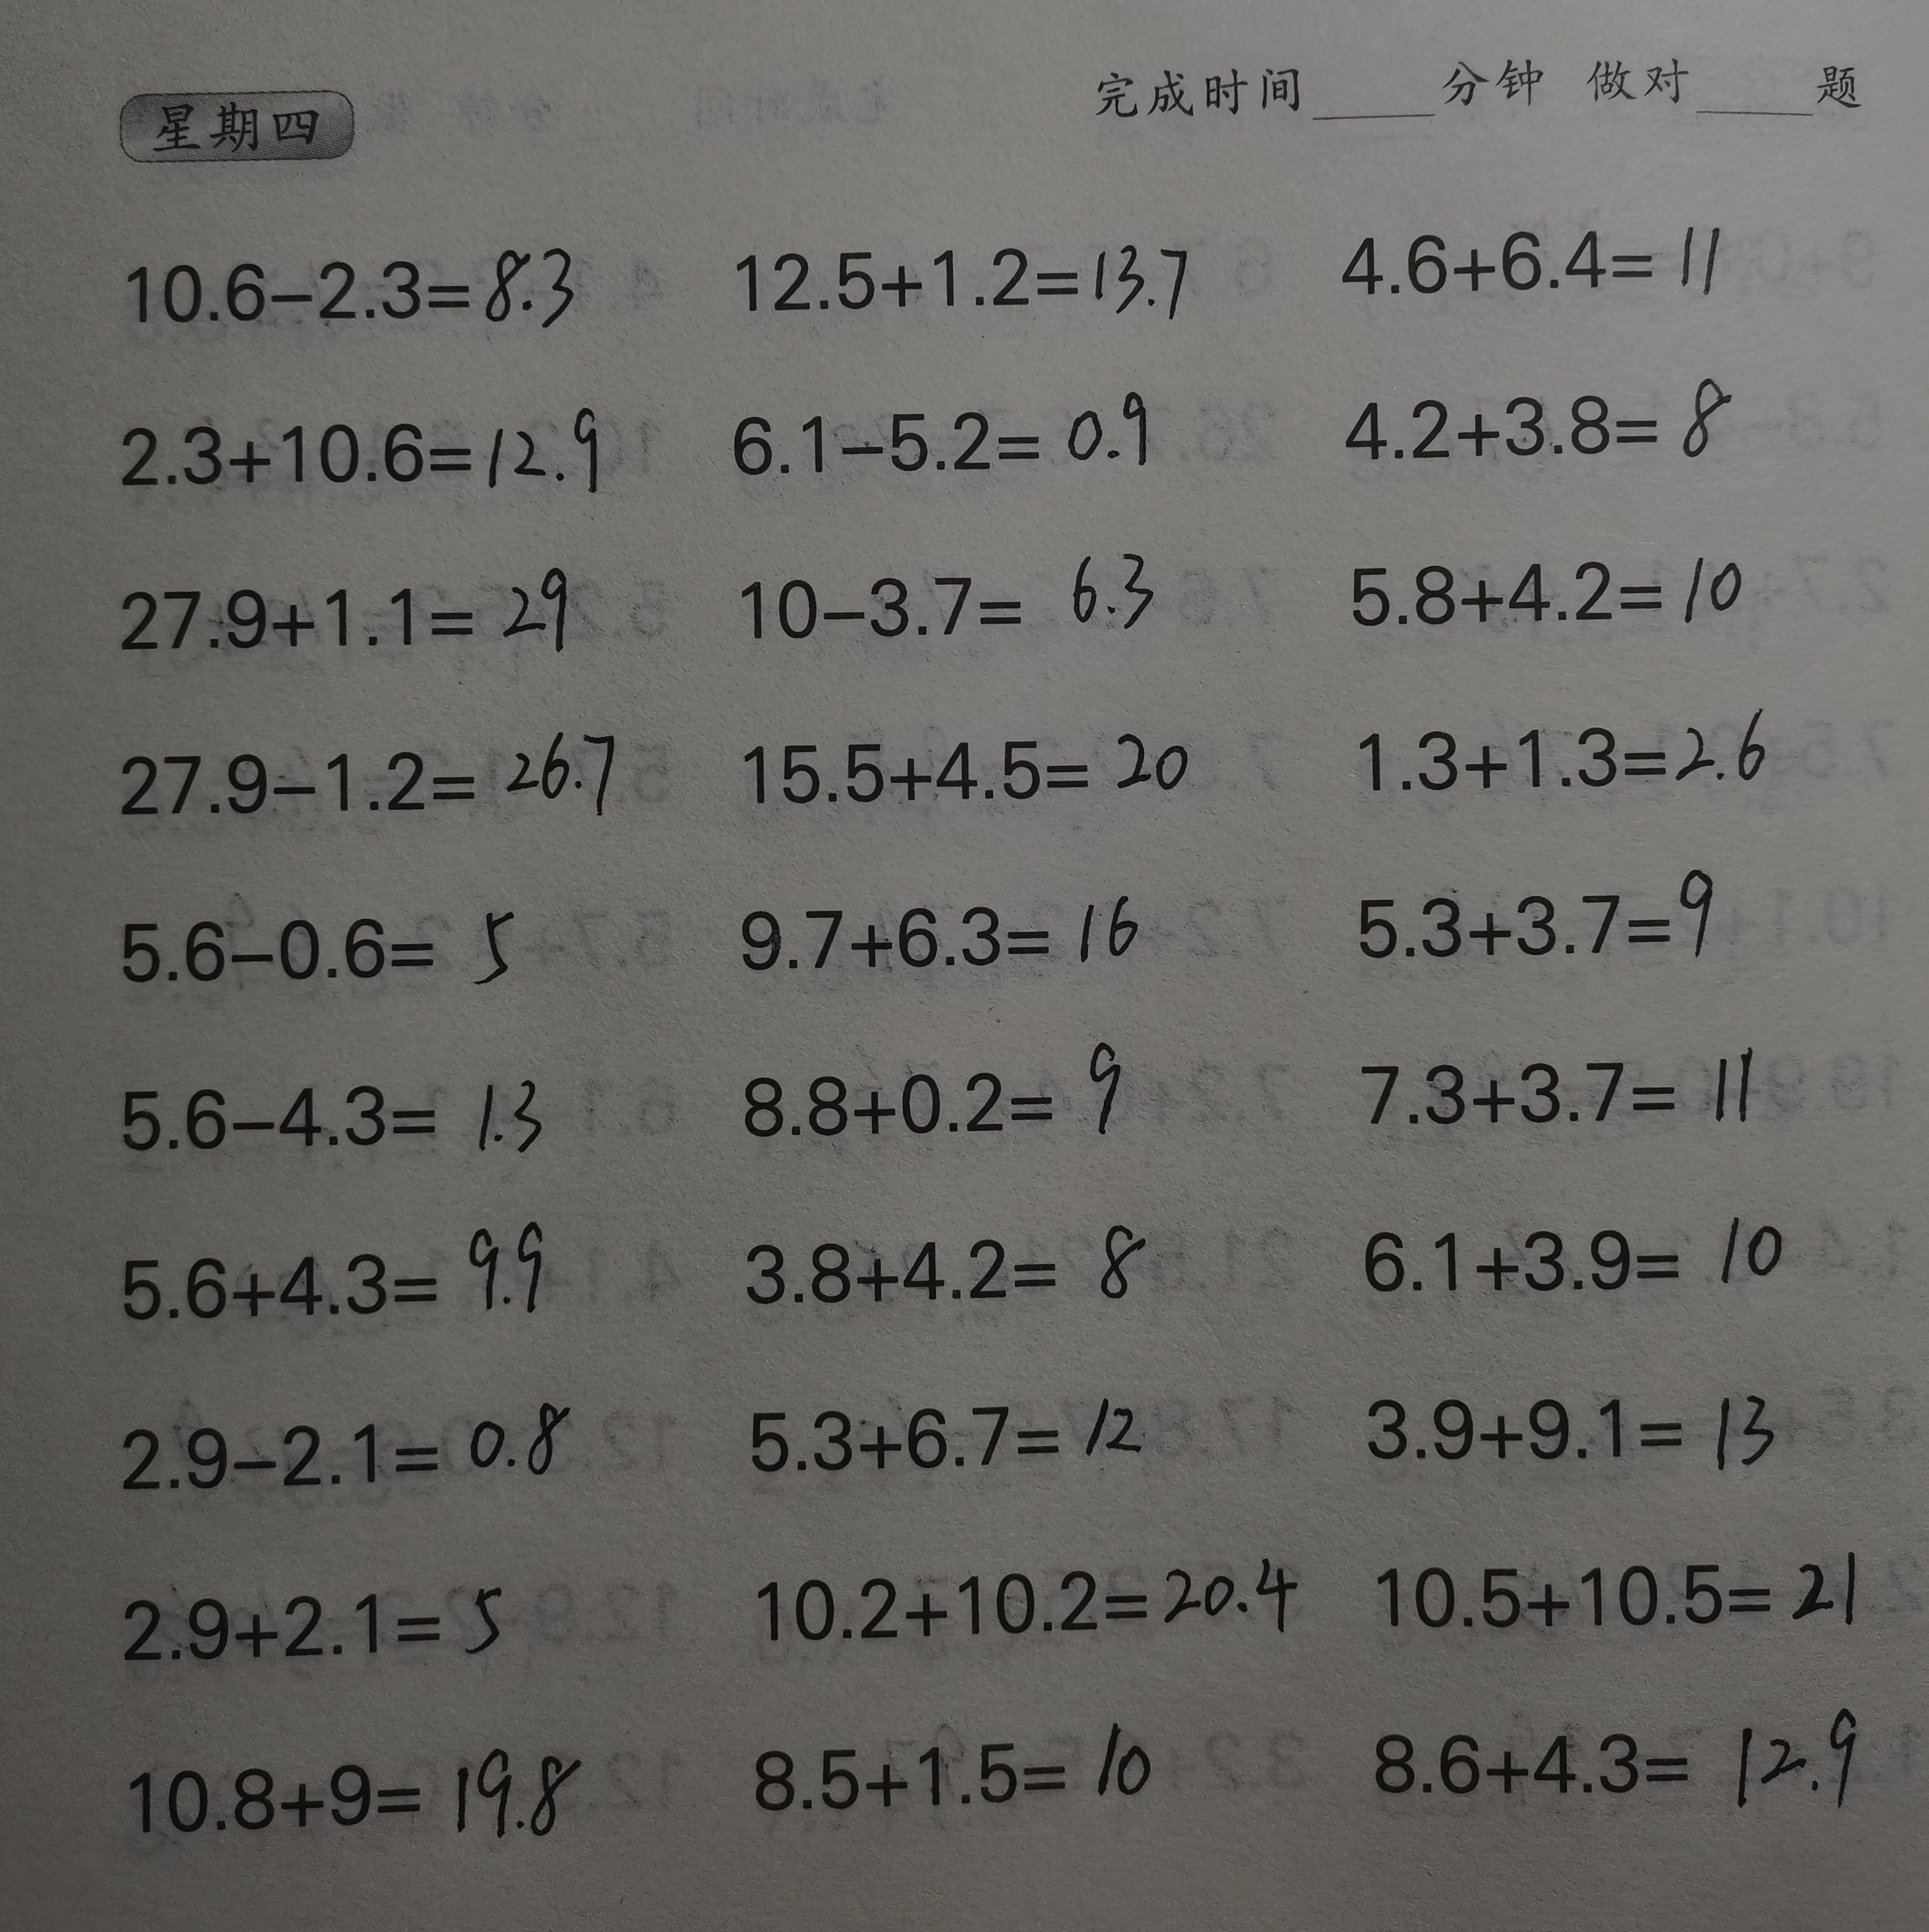equation: (1350, 1685, 1899, 1824), (97, 383, 615, 521), (104, 1374, 585, 1519), (737, 1540, 1328, 1655), (714, 694, 1222, 825), (113, 1732, 601, 1868), (1369, 1522, 1888, 1648), (111, 214, 585, 346), (730, 1363, 1185, 1499), (730, 1192, 1191, 1324), (724, 1697, 1189, 1828), (714, 862, 1171, 992), (99, 717, 636, 828), (94, 551, 590, 671), (708, 374, 1198, 494), (1350, 1355, 1816, 1480), (104, 1213, 560, 1340), (715, 530, 1175, 650), (724, 1024, 1164, 1150), (1330, 525, 1777, 646), (1350, 1192, 1819, 1305), (724, 215, 1199, 327), (1321, 185, 1731, 314), (1327, 839, 1735, 968), (1337, 703, 1784, 818), (1344, 1024, 1768, 1144), (104, 1565, 542, 1679), (1339, 364, 1745, 487), (99, 888, 533, 1003), (104, 1067, 553, 1173)
